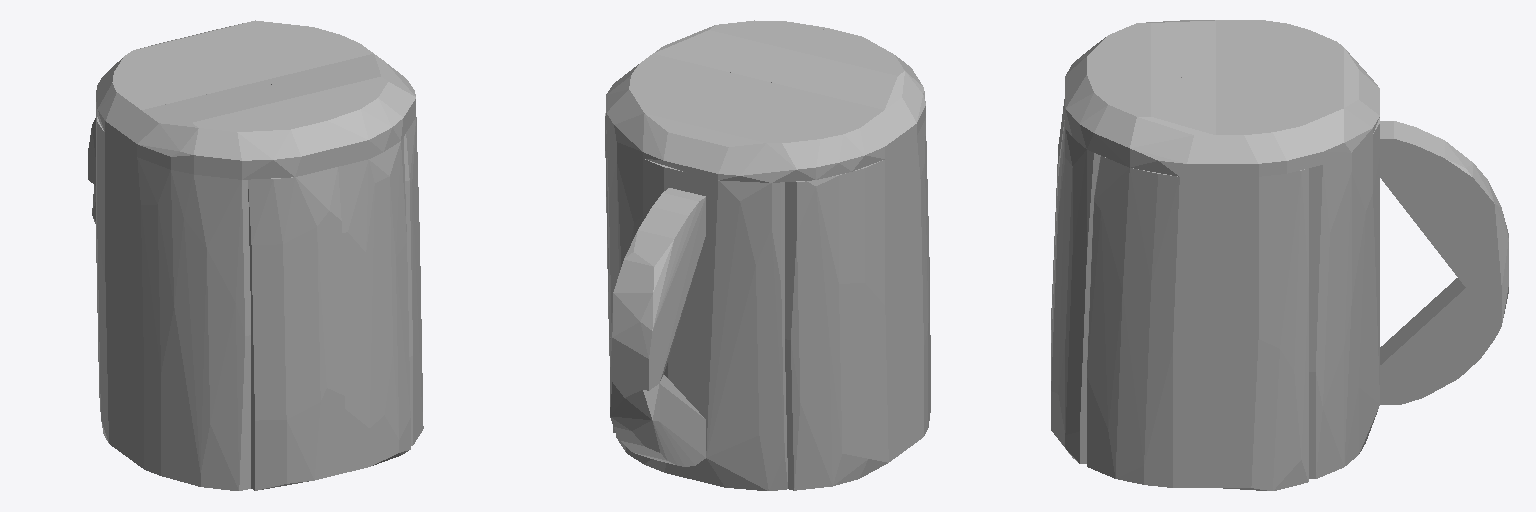
The robot description file, URDF, robot "root":
<robot name="root">
  <link name="link_c453274b341f8c4ec2b9bcaf66ea9919_convex_piece_0">
    <inertial>
      <origin rpy="0 0 0" xyz="0 0 0"/>
      <mass value="-2.40E-07"/>
      <inertia ixx="-1.11E-10" ixy="-3.75E-13" ixz="-2.34E-12" iyy="-2.59E-11" iyz="5.65E-11" izz="-8.56E-11"/>
    </inertial>
    <visual>
      <origin rpy="0 0 0" xyz="0 0 0"/>
      <geometry>
        <mesh filename="c453274b341f8c4ec2b9bcaf66ea9919_convex_piece_0.obj" scale="1.0000E+00"/>
      </geometry>
      <material name="">
        <color rgba="7.50E-01 7.50E-01 7.50E-01 1"/>
      </material>
    </visual>
    <collision>
      <origin rpy="0 0 0" xyz="0 0 0"/>
      <geometry>
        <mesh filename="c453274b341f8c4ec2b9bcaf66ea9919_convex_piece_0.obj" scale="1.0000E+00"/>
      </geometry>
    </collision>
  </link>
  <link name="link_c453274b341f8c4ec2b9bcaf66ea9919_convex_piece_1">
    <inertial>
      <origin rpy="0 0 0" xyz="0 0 0"/>
      <mass value="-3.15E-07"/>
      <inertia ixx="-1.27E-10" ixy="-2.78E-13" ixz="-1.86E-12" iyy="-8.76E-12" iyz="-2.26E-11" izz="-1.19E-10"/>
    </inertial>
    <visual>
      <origin rpy="0 0 0" xyz="0 0 0"/>
      <geometry>
        <mesh filename="c453274b341f8c4ec2b9bcaf66ea9919_convex_piece_1.obj" scale="1.0000E+00"/>
      </geometry>
      <material name="">
        <color rgba="7.50E-01 7.50E-01 7.50E-01 1"/>
      </material>
    </visual>
    <collision>
      <origin rpy="0 0 0" xyz="0 0 0"/>
      <geometry>
        <mesh filename="c453274b341f8c4ec2b9bcaf66ea9919_convex_piece_1.obj" scale="1.0000E+00"/>
      </geometry>
    </collision>
  </link>
  <joint name="link_c453274b341f8c4ec2b9bcaf66ea9919_convex_piece_1_joint" type="fixed">
    <origin rpy="0 0 0" xyz="0 0 0"/>
    <parent link="link_c453274b341f8c4ec2b9bcaf66ea9919_convex_piece_0"/>
    <child link="link_c453274b341f8c4ec2b9bcaf66ea9919_convex_piece_1"/>
  </joint>
  <link name="link_c453274b341f8c4ec2b9bcaf66ea9919_convex_piece_2">
    <inertial>
      <origin rpy="0 0 0" xyz="0 0 0"/>
      <mass value="-4.29E-07"/>
      <inertia ixx="-2.63E-10" ixy="-4.86E-11" ixz="6.08E-11" iyy="-1.99E-10" iyz="1.48E-10" izz="-1.30E-10"/>
    </inertial>
    <visual>
      <origin rpy="0 0 0" xyz="0 0 0"/>
      <geometry>
        <mesh filename="c453274b341f8c4ec2b9bcaf66ea9919_convex_piece_2.obj" scale="1.0000E+00"/>
      </geometry>
      <material name="">
        <color rgba="7.50E-01 7.50E-01 7.50E-01 1"/>
      </material>
    </visual>
    <collision>
      <origin rpy="0 0 0" xyz="0 0 0"/>
      <geometry>
        <mesh filename="c453274b341f8c4ec2b9bcaf66ea9919_convex_piece_2.obj" scale="1.0000E+00"/>
      </geometry>
    </collision>
  </link>
  <joint name="link_c453274b341f8c4ec2b9bcaf66ea9919_convex_piece_2_joint" type="fixed">
    <origin rpy="0 0 0" xyz="0 0 0"/>
    <parent link="link_c453274b341f8c4ec2b9bcaf66ea9919_convex_piece_1"/>
    <child link="link_c453274b341f8c4ec2b9bcaf66ea9919_convex_piece_2"/>
  </joint>
  <link name="link_c453274b341f8c4ec2b9bcaf66ea9919_convex_piece_3">
    <inertial>
      <origin rpy="0 0 0" xyz="0 0 0"/>
      <mass value="-3.79E-07"/>
      <inertia ixx="-2.30E-10" ixy="4.13E-11" ixz="-6.44E-11" iyy="-1.78E-10" iyz="1.29E-10" izz="-1.15E-10"/>
    </inertial>
    <visual>
      <origin rpy="0 0 0" xyz="0 0 0"/>
      <geometry>
        <mesh filename="c453274b341f8c4ec2b9bcaf66ea9919_convex_piece_3.obj" scale="1.0000E+00"/>
      </geometry>
      <material name="">
        <color rgba="7.50E-01 7.50E-01 7.50E-01 1"/>
      </material>
    </visual>
    <collision>
      <origin rpy="0 0 0" xyz="0 0 0"/>
      <geometry>
        <mesh filename="c453274b341f8c4ec2b9bcaf66ea9919_convex_piece_3.obj" scale="1.0000E+00"/>
      </geometry>
    </collision>
  </link>
  <joint name="link_c453274b341f8c4ec2b9bcaf66ea9919_convex_piece_3_joint" type="fixed">
    <origin rpy="0 0 0" xyz="0 0 0"/>
    <parent link="link_c453274b341f8c4ec2b9bcaf66ea9919_convex_piece_2"/>
    <child link="link_c453274b341f8c4ec2b9bcaf66ea9919_convex_piece_3"/>
  </joint>
  <link name="link_c453274b341f8c4ec2b9bcaf66ea9919_convex_piece_4">
    <inertial>
      <origin rpy="0 0 0" xyz="0 0 0"/>
      <mass value="-3.83E-07"/>
      <inertia ixx="-1.40E-10" ixy="-3.62E-12" ixz="5.89E-11" iyy="-1.76E-10" iyz="8.47E-12" izz="-2.99E-11"/>
    </inertial>
    <visual>
      <origin rpy="0 0 0" xyz="0 0 0"/>
      <geometry>
        <mesh filename="c453274b341f8c4ec2b9bcaf66ea9919_convex_piece_4.obj" scale="1.0000E+00"/>
      </geometry>
      <material name="">
        <color rgba="7.50E-01 7.50E-01 7.50E-01 1"/>
      </material>
    </visual>
    <collision>
      <origin rpy="0 0 0" xyz="0 0 0"/>
      <geometry>
        <mesh filename="c453274b341f8c4ec2b9bcaf66ea9919_convex_piece_4.obj" scale="1.0000E+00"/>
      </geometry>
    </collision>
  </link>
  <joint name="link_c453274b341f8c4ec2b9bcaf66ea9919_convex_piece_4_joint" type="fixed">
    <origin rpy="0 0 0" xyz="0 0 0"/>
    <parent link="link_c453274b341f8c4ec2b9bcaf66ea9919_convex_piece_3"/>
    <child link="link_c453274b341f8c4ec2b9bcaf66ea9919_convex_piece_4"/>
  </joint>
  <link name="link_c453274b341f8c4ec2b9bcaf66ea9919_convex_piece_5">
    <inertial>
      <origin rpy="0 0 0" xyz="0 0 0"/>
      <mass value="-3.82E-07"/>
      <inertia ixx="-1.40E-10" ixy="-1.72E-12" ixz="-6.30E-11" iyy="-1.75E-10" iyz="8.60E-12" izz="-2.90E-11"/>
    </inertial>
    <visual>
      <origin rpy="0 0 0" xyz="0 0 0"/>
      <geometry>
        <mesh filename="c453274b341f8c4ec2b9bcaf66ea9919_convex_piece_5.obj" scale="1.0000E+00"/>
      </geometry>
      <material name="">
        <color rgba="7.50E-01 7.50E-01 7.50E-01 1"/>
      </material>
    </visual>
    <collision>
      <origin rpy="0 0 0" xyz="0 0 0"/>
      <geometry>
        <mesh filename="c453274b341f8c4ec2b9bcaf66ea9919_convex_piece_5.obj" scale="1.0000E+00"/>
      </geometry>
    </collision>
  </link>
  <joint name="link_c453274b341f8c4ec2b9bcaf66ea9919_convex_piece_5_joint" type="fixed">
    <origin rpy="0 0 0" xyz="0 0 0"/>
    <parent link="link_c453274b341f8c4ec2b9bcaf66ea9919_convex_piece_4"/>
    <child link="link_c453274b341f8c4ec2b9bcaf66ea9919_convex_piece_5"/>
  </joint>
  <link name="link_c453274b341f8c4ec2b9bcaf66ea9919_convex_piece_6">
    <inertial>
      <origin rpy="0 0 0" xyz="0 0 0"/>
      <mass value="-1.06E-06"/>
      <inertia ixx="-3.36E-10" ixy="-2.30E-10" ixz="-4.40E-11" iyy="-3.35E-10" iyz="-6.49E-12" izz="-4.45E-10"/>
    </inertial>
    <visual>
      <origin rpy="0 0 0" xyz="0 0 0"/>
      <geometry>
        <mesh filename="c453274b341f8c4ec2b9bcaf66ea9919_convex_piece_6.obj" scale="1.0000E+00"/>
      </geometry>
      <material name="">
        <color rgba="7.50E-01 7.50E-01 7.50E-01 1"/>
      </material>
    </visual>
    <collision>
      <origin rpy="0 0 0" xyz="0 0 0"/>
      <geometry>
        <mesh filename="c453274b341f8c4ec2b9bcaf66ea9919_convex_piece_6.obj" scale="1.0000E+00"/>
      </geometry>
    </collision>
  </link>
  <joint name="link_c453274b341f8c4ec2b9bcaf66ea9919_convex_piece_6_joint" type="fixed">
    <origin rpy="0 0 0" xyz="0 0 0"/>
    <parent link="link_c453274b341f8c4ec2b9bcaf66ea9919_convex_piece_5"/>
    <child link="link_c453274b341f8c4ec2b9bcaf66ea9919_convex_piece_6"/>
  </joint>
  <link name="link_c453274b341f8c4ec2b9bcaf66ea9919_convex_piece_7">
    <inertial>
      <origin rpy="0 0 0" xyz="0 0 0"/>
      <mass value="-8.06E-07"/>
      <inertia ixx="-4.84E-10" ixy="-9.38E-11" ixz="-1.32E-11" iyy="-1.06E-10" iyz="-1.27E-11" izz="-4.29E-10"/>
    </inertial>
    <visual>
      <origin rpy="0 0 0" xyz="0 0 0"/>
      <geometry>
        <mesh filename="c453274b341f8c4ec2b9bcaf66ea9919_convex_piece_7.obj" scale="1.0000E+00"/>
      </geometry>
      <material name="">
        <color rgba="7.50E-01 7.50E-01 7.50E-01 1"/>
      </material>
    </visual>
    <collision>
      <origin rpy="0 0 0" xyz="0 0 0"/>
      <geometry>
        <mesh filename="c453274b341f8c4ec2b9bcaf66ea9919_convex_piece_7.obj" scale="1.0000E+00"/>
      </geometry>
    </collision>
  </link>
  <joint name="link_c453274b341f8c4ec2b9bcaf66ea9919_convex_piece_7_joint" type="fixed">
    <origin rpy="0 0 0" xyz="0 0 0"/>
    <parent link="link_c453274b341f8c4ec2b9bcaf66ea9919_convex_piece_6"/>
    <child link="link_c453274b341f8c4ec2b9bcaf66ea9919_convex_piece_7"/>
  </joint>
  <link name="link_c453274b341f8c4ec2b9bcaf66ea9919_convex_piece_8">
    <inertial>
      <origin rpy="0 0 0" xyz="0 0 0"/>
      <mass value="-9.24E-07"/>
      <inertia ixx="-5.22E-10" ixy="1.24E-10" ixz="6.38E-12" iyy="-1.42E-10" iyz="-1.77E-11" izz="-4.74E-10"/>
    </inertial>
    <visual>
      <origin rpy="0 0 0" xyz="0 0 0"/>
      <geometry>
        <mesh filename="c453274b341f8c4ec2b9bcaf66ea9919_convex_piece_8.obj" scale="1.0000E+00"/>
      </geometry>
      <material name="">
        <color rgba="7.50E-01 7.50E-01 7.50E-01 1"/>
      </material>
    </visual>
    <collision>
      <origin rpy="0 0 0" xyz="0 0 0"/>
      <geometry>
        <mesh filename="c453274b341f8c4ec2b9bcaf66ea9919_convex_piece_8.obj" scale="1.0000E+00"/>
      </geometry>
    </collision>
  </link>
  <joint name="link_c453274b341f8c4ec2b9bcaf66ea9919_convex_piece_8_joint" type="fixed">
    <origin rpy="0 0 0" xyz="0 0 0"/>
    <parent link="link_c453274b341f8c4ec2b9bcaf66ea9919_convex_piece_7"/>
    <child link="link_c453274b341f8c4ec2b9bcaf66ea9919_convex_piece_8"/>
  </joint>
  <link name="link_c453274b341f8c4ec2b9bcaf66ea9919_convex_piece_9">
    <inertial>
      <origin rpy="0 0 0" xyz="0 0 0"/>
      <mass value="-9.02E-07"/>
      <inertia ixx="-2.63E-10" ixy="1.81E-10" ixz="2.65E-11" iyy="-2.97E-10" iyz="-5.18E-12" izz="-3.68E-10"/>
    </inertial>
    <visual>
      <origin rpy="0 0 0" xyz="0 0 0"/>
      <geometry>
        <mesh filename="c453274b341f8c4ec2b9bcaf66ea9919_convex_piece_9.obj" scale="1.0000E+00"/>
      </geometry>
      <material name="">
        <color rgba="7.50E-01 7.50E-01 7.50E-01 1"/>
      </material>
    </visual>
    <collision>
      <origin rpy="0 0 0" xyz="0 0 0"/>
      <geometry>
        <mesh filename="c453274b341f8c4ec2b9bcaf66ea9919_convex_piece_9.obj" scale="1.0000E+00"/>
      </geometry>
    </collision>
  </link>
  <joint name="link_c453274b341f8c4ec2b9bcaf66ea9919_convex_piece_9_joint" type="fixed">
    <origin rpy="0 0 0" xyz="0 0 0"/>
    <parent link="link_c453274b341f8c4ec2b9bcaf66ea9919_convex_piece_8"/>
    <child link="link_c453274b341f8c4ec2b9bcaf66ea9919_convex_piece_9"/>
  </joint>
  <link name="link_c453274b341f8c4ec2b9bcaf66ea9919_convex_piece_10">
    <inertial>
      <origin rpy="0 0 0" xyz="0 0 0"/>
      <mass value="-9.61E-07"/>
      <inertia ixx="-8.84E-11" ixy="-1.86E-11" ixz="-3.44E-11" iyy="-3.14E-10" iyz="2.76E-11" izz="-1.94E-10"/>
    </inertial>
    <visual>
      <origin rpy="0 0 0" xyz="0 0 0"/>
      <geometry>
        <mesh filename="c453274b341f8c4ec2b9bcaf66ea9919_convex_piece_10.obj" scale="1.0000E+00"/>
      </geometry>
      <material name="">
        <color rgba="7.50E-01 7.50E-01 7.50E-01 1"/>
      </material>
    </visual>
    <collision>
      <origin rpy="0 0 0" xyz="0 0 0"/>
      <geometry>
        <mesh filename="c453274b341f8c4ec2b9bcaf66ea9919_convex_piece_10.obj" scale="1.0000E+00"/>
      </geometry>
    </collision>
  </link>
  <joint name="link_c453274b341f8c4ec2b9bcaf66ea9919_convex_piece_10_joint" type="fixed">
    <origin rpy="0 0 0" xyz="0 0 0"/>
    <parent link="link_c453274b341f8c4ec2b9bcaf66ea9919_convex_piece_9"/>
    <child link="link_c453274b341f8c4ec2b9bcaf66ea9919_convex_piece_10"/>
  </joint>
  <link name="link_c453274b341f8c4ec2b9bcaf66ea9919_convex_piece_11">
    <inertial>
      <origin rpy="0 0 0" xyz="0 0 0"/>
      <mass value="-8.84E-07"/>
      <inertia ixx="-1.26E-10" ixy="2.90E-11" ixz="-1.95E-11" iyy="-1.33E-10" iyz="4.32E-11" izz="-6.32E-11"/>
    </inertial>
    <visual>
      <origin rpy="0 0 0" xyz="0 0 0"/>
      <geometry>
        <mesh filename="c453274b341f8c4ec2b9bcaf66ea9919_convex_piece_11.obj" scale="1.0000E+00"/>
      </geometry>
      <material name="">
        <color rgba="7.50E-01 7.50E-01 7.50E-01 1"/>
      </material>
    </visual>
    <collision>
      <origin rpy="0 0 0" xyz="0 0 0"/>
      <geometry>
        <mesh filename="c453274b341f8c4ec2b9bcaf66ea9919_convex_piece_11.obj" scale="1.0000E+00"/>
      </geometry>
    </collision>
  </link>
  <joint name="link_c453274b341f8c4ec2b9bcaf66ea9919_convex_piece_11_joint" type="fixed">
    <origin rpy="0 0 0" xyz="0 0 0"/>
    <parent link="link_c453274b341f8c4ec2b9bcaf66ea9919_convex_piece_10"/>
    <child link="link_c453274b341f8c4ec2b9bcaf66ea9919_convex_piece_11"/>
  </joint>
  <link name="link_c453274b341f8c4ec2b9bcaf66ea9919_convex_piece_12">
    <inertial>
      <origin rpy="0 0 0" xyz="0 0 0"/>
      <mass value="-8.69E-07"/>
      <inertia ixx="-7.98E-11" ixy="1.80E-11" ixz="2.54E-11" iyy="-2.89E-10" iyz="2.37E-11" izz="-1.75E-10"/>
    </inertial>
    <visual>
      <origin rpy="0 0 0" xyz="0 0 0"/>
      <geometry>
        <mesh filename="c453274b341f8c4ec2b9bcaf66ea9919_convex_piece_12.obj" scale="1.0000E+00"/>
      </geometry>
      <material name="">
        <color rgba="7.50E-01 7.50E-01 7.50E-01 1"/>
      </material>
    </visual>
    <collision>
      <origin rpy="0 0 0" xyz="0 0 0"/>
      <geometry>
        <mesh filename="c453274b341f8c4ec2b9bcaf66ea9919_convex_piece_12.obj" scale="1.0000E+00"/>
      </geometry>
    </collision>
  </link>
  <joint name="link_c453274b341f8c4ec2b9bcaf66ea9919_convex_piece_12_joint" type="fixed">
    <origin rpy="0 0 0" xyz="0 0 0"/>
    <parent link="link_c453274b341f8c4ec2b9bcaf66ea9919_convex_piece_11"/>
    <child link="link_c453274b341f8c4ec2b9bcaf66ea9919_convex_piece_12"/>
  </joint>
  <link name="link_c453274b341f8c4ec2b9bcaf66ea9919_convex_piece_13">
    <inertial>
      <origin rpy="0 0 0" xyz="0 0 0"/>
      <mass value="-1.08E-06"/>
      <inertia ixx="-1.45E-10" ixy="-5.42E-11" ixz="3.67E-12" iyy="-1.80E-10" iyz="4.81E-11" izz="-9.03E-11"/>
    </inertial>
    <visual>
      <origin rpy="0 0 0" xyz="0 0 0"/>
      <geometry>
        <mesh filename="c453274b341f8c4ec2b9bcaf66ea9919_convex_piece_13.obj" scale="1.0000E+00"/>
      </geometry>
      <material name="">
        <color rgba="7.50E-01 7.50E-01 7.50E-01 1"/>
      </material>
    </visual>
    <collision>
      <origin rpy="0 0 0" xyz="0 0 0"/>
      <geometry>
        <mesh filename="c453274b341f8c4ec2b9bcaf66ea9919_convex_piece_13.obj" scale="1.0000E+00"/>
      </geometry>
    </collision>
  </link>
  <joint name="link_c453274b341f8c4ec2b9bcaf66ea9919_convex_piece_13_joint" type="fixed">
    <origin rpy="0 0 0" xyz="0 0 0"/>
    <parent link="link_c453274b341f8c4ec2b9bcaf66ea9919_convex_piece_12"/>
    <child link="link_c453274b341f8c4ec2b9bcaf66ea9919_convex_piece_13"/>
  </joint>
</robot>

--- Facts derived from the render (not from the file) ---
Views: 3 orthographic renders of the robot side by side, from view 1: azimuth 30°, elevation 25°; view 2: azimuth 150°, elevation 25°; view 3: azimuth 270°, elevation 25°.
Robot: root — 14 links, 13 joints (13 fixed); root link link_c453274b341f8c4ec2b9bcaf66ea9919_convex_piece_0; default pose: all joints at 0.
Links seen in each view (by area): view 1: link_c453274b341f8c4ec2b9bcaf66ea9919_convex_piece_6, link_c453274b341f8c4ec2b9bcaf66ea9919_convex_piece_7, link_c453274b341f8c4ec2b9bcaf66ea9919_convex_piece_8, link_c453274b341f8c4ec2b9bcaf66ea9919_convex_piece_2, link_c453274b341f8c4ec2b9bcaf66ea9919_convex_piece_3, link_c453274b341f8c4ec2b9bcaf66ea9919_convex_piece_4, link_c453274b341f8c4ec2b9bcaf66ea9919_convex_piece_10, link_c453274b341f8c4ec2b9bcaf66ea9919_convex_piece_5, link_c453274b341f8c4ec2b9bcaf66ea9919_convex_piece_9; view 2: link_c453274b341f8c4ec2b9bcaf66ea9919_convex_piece_10, link_c453274b341f8c4ec2b9bcaf66ea9919_convex_piece_11, link_c453274b341f8c4ec2b9bcaf66ea9919_convex_piece_4, link_c453274b341f8c4ec2b9bcaf66ea9919_convex_piece_1, link_c453274b341f8c4ec2b9bcaf66ea9919_convex_piece_5, link_c453274b341f8c4ec2b9bcaf66ea9919_convex_piece_2, link_c453274b341f8c4ec2b9bcaf66ea9919_convex_piece_6, link_c453274b341f8c4ec2b9bcaf66ea9919_convex_piece_13, link_c453274b341f8c4ec2b9bcaf66ea9919_convex_piece_0, link_c453274b341f8c4ec2b9bcaf66ea9919_convex_piece_3; view 3: link_c453274b341f8c4ec2b9bcaf66ea9919_convex_piece_9, link_c453274b341f8c4ec2b9bcaf66ea9919_convex_piece_12, link_c453274b341f8c4ec2b9bcaf66ea9919_convex_piece_13, link_c453274b341f8c4ec2b9bcaf66ea9919_convex_piece_5, link_c453274b341f8c4ec2b9bcaf66ea9919_convex_piece_3, link_c453274b341f8c4ec2b9bcaf66ea9919_convex_piece_1, link_c453274b341f8c4ec2b9bcaf66ea9919_convex_piece_8, link_c453274b341f8c4ec2b9bcaf66ea9919_convex_piece_0, link_c453274b341f8c4ec2b9bcaf66ea9919_convex_piece_4, link_c453274b341f8c4ec2b9bcaf66ea9919_convex_piece_2.
Link boxes in pixels (x1,y1,x2,y2): link_c453274b341f8c4ec2b9bcaf66ea9919_convex_piece_6: [123, 147, 250, 490]; link_c453274b341f8c4ec2b9bcaf66ea9919_convex_piece_7: [248, 167, 344, 490]; link_c453274b341f8c4ec2b9bcaf66ea9919_convex_piece_8: [338, 137, 410, 472]; link_c453274b341f8c4ec2b9bcaf66ea9919_convex_piece_2: [123, 81, 337, 179]; link_c453274b341f8c4ec2b9bcaf66ea9919_convex_piece_3: [264, 54, 415, 166]; link_c453274b341f8c4ec2b9bcaf66ea9919_convex_piece_4: [96, 36, 256, 145]; link_c453274b341f8c4ec2b9bcaf66ea9919_convex_piece_10: [96, 115, 122, 453]; link_c453274b341f8c4ec2b9bcaf66ea9919_convex_piece_5: [192, 20, 373, 81]; link_c453274b341f8c4ec2b9bcaf66ea9919_convex_piece_9: [404, 117, 423, 445]; link_c453274b341f8c4ec2b9bcaf66ea9919_convex_piece_10: [785, 147, 902, 490]; link_c453274b341f8c4ec2b9bcaf66ea9919_convex_piece_11: [688, 173, 787, 490]; link_c453274b341f8c4ec2b9bcaf66ea9919_convex_piece_4: [688, 82, 902, 182]; link_c453274b341f8c4ec2b9bcaf66ea9919_convex_piece_1: [610, 188, 705, 390]; link_c453274b341f8c4ec2b9bcaf66ea9919_convex_piece_5: [606, 54, 767, 172]; link_c453274b341f8c4ec2b9bcaf66ea9919_convex_piece_2: [763, 28, 925, 145]; link_c453274b341f8c4ec2b9bcaf66ea9919_convex_piece_6: [903, 118, 930, 451]; link_c453274b341f8c4ec2b9bcaf66ea9919_convex_piece_13: [606, 126, 694, 479]; link_c453274b341f8c4ec2b9bcaf66ea9919_convex_piece_0: [610, 375, 705, 466]; link_c453274b341f8c4ec2b9bcaf66ea9919_convex_piece_3: [653, 20, 824, 79]; link_c453274b341f8c4ec2b9bcaf66ea9919_convex_piece_9: [1087, 156, 1215, 487]; link_c453274b341f8c4ec2b9bcaf66ea9919_convex_piece_12: [1216, 168, 1308, 490]; link_c453274b341f8c4ec2b9bcaf66ea9919_convex_piece_13: [1309, 118, 1379, 478]; link_c453274b341f8c4ec2b9bcaf66ea9919_convex_piece_5: [1216, 78, 1379, 176]; link_c453274b341f8c4ec2b9bcaf66ea9919_convex_piece_3: [1065, 74, 1215, 176]; link_c453274b341f8c4ec2b9bcaf66ea9919_convex_piece_1: [1380, 121, 1508, 287]; link_c453274b341f8c4ec2b9bcaf66ea9919_convex_piece_8: [1051, 121, 1100, 463]; link_c453274b341f8c4ec2b9bcaf66ea9919_convex_piece_0: [1380, 278, 1508, 404]; link_c453274b341f8c4ec2b9bcaf66ea9919_convex_piece_4: [1216, 20, 1379, 102]; link_c453274b341f8c4ec2b9bcaf66ea9919_convex_piece_2: [1065, 20, 1215, 93].
Size in the robot's own frame: 0.0368 by 0.0535 by 0.046 metres.
14 mesh visuals loaded from 14 distinct referenced files (14 OBJ).